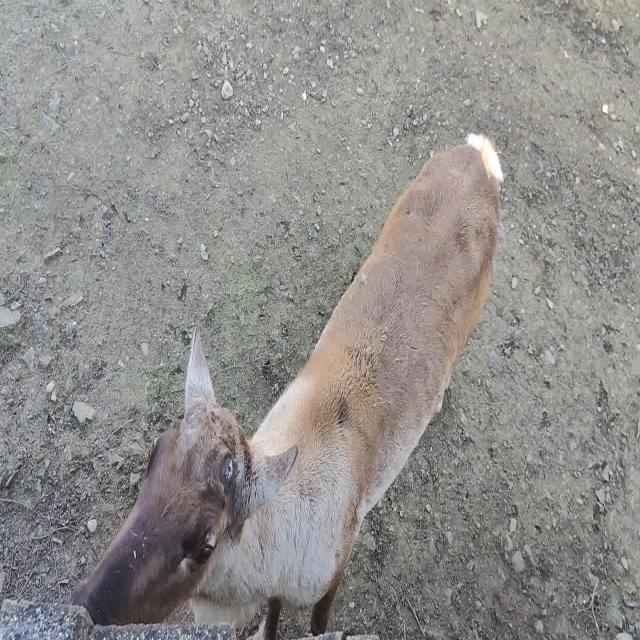deer: (72, 132, 504, 638)
